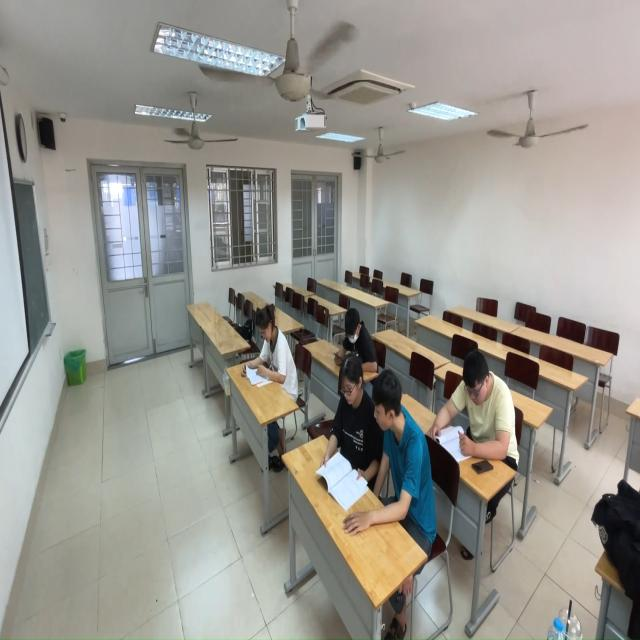read: (352, 370, 436, 548), (439, 346, 521, 470), (312, 354, 374, 517), (239, 301, 297, 399), (329, 302, 380, 371)
